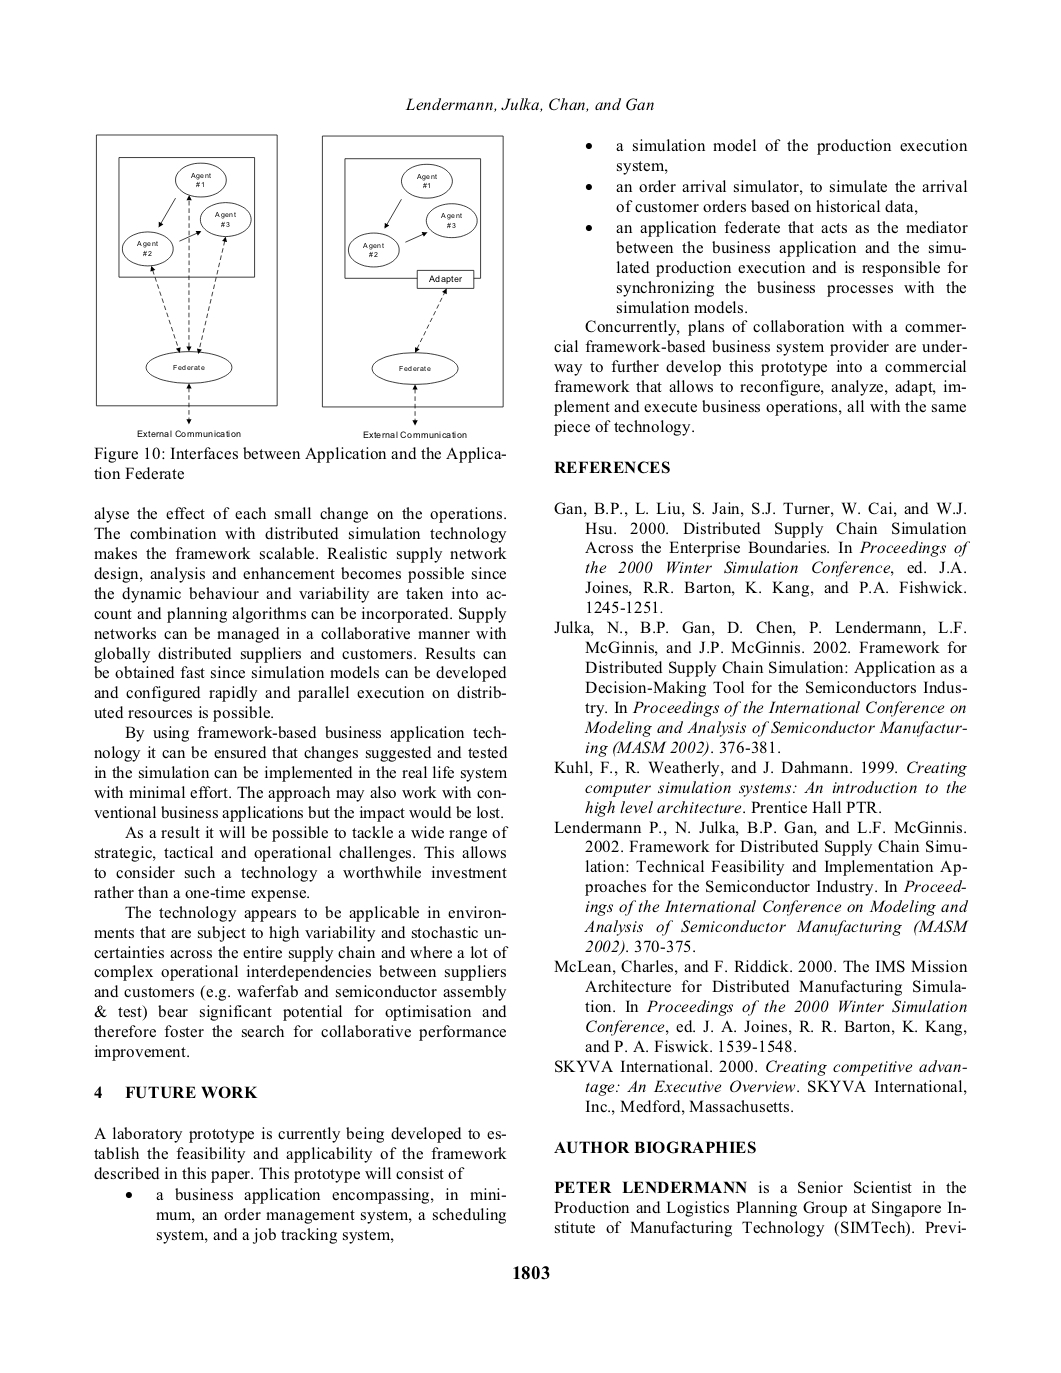figure: (95, 134, 503, 437)
